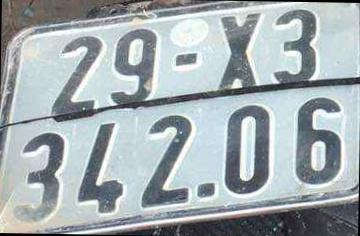-: (175, 55, 197, 64)
.: (198, 187, 213, 197)
0: (227, 105, 270, 194)
2: (52, 37, 103, 121), (142, 116, 190, 205)
3: (13, 133, 65, 223), (275, 10, 316, 81)
4: (79, 124, 123, 214)
6: (296, 98, 341, 185)
9: (113, 30, 156, 106)
X: (221, 16, 259, 91)
